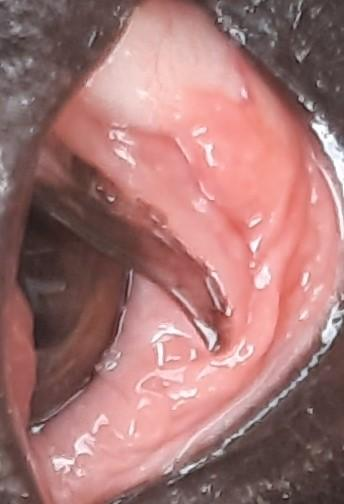eye_membrane: (0, 0, 344, 504)
